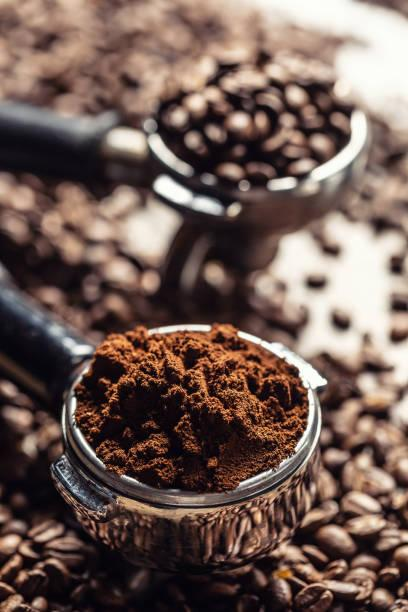organic: (76, 318, 316, 512)
